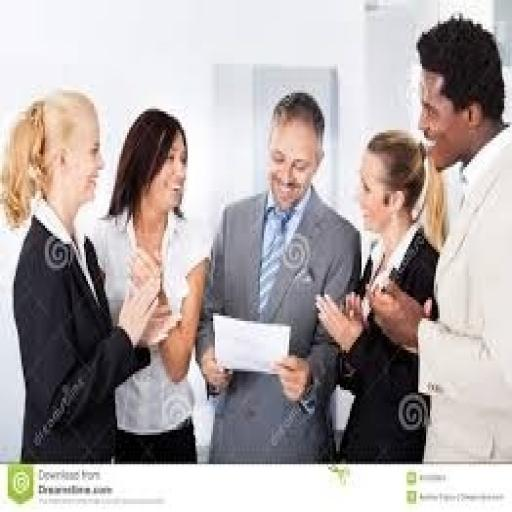clapping: (364, 14, 510, 464), (0, 85, 168, 464), (86, 106, 213, 464), (312, 128, 440, 464)
